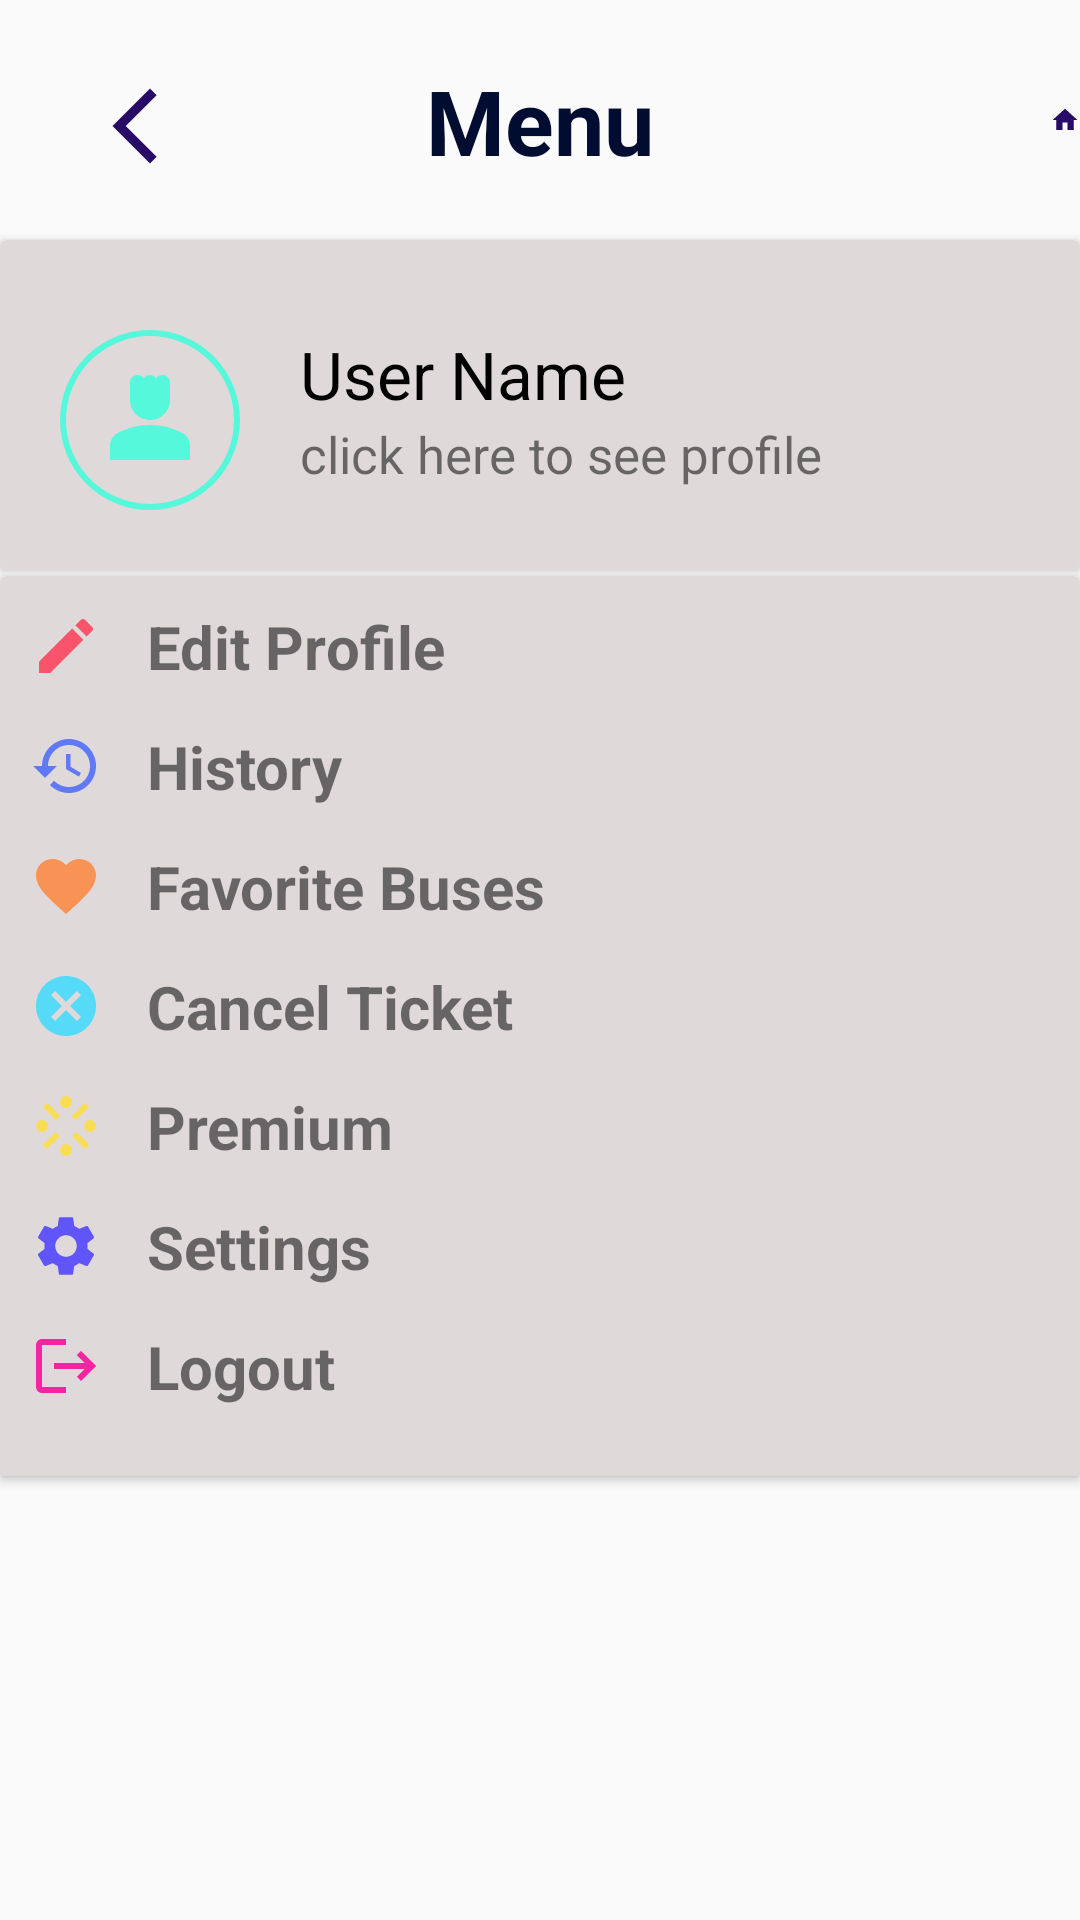

Icons on this 1080 x 1920 Android screen, each with its box as BBox(x1, y1, x2, y2):
arrow back: BBox(112, 88, 157, 164)
home: BBox(1053, 109, 1077, 130)
person: BBox(60, 330, 240, 510)
